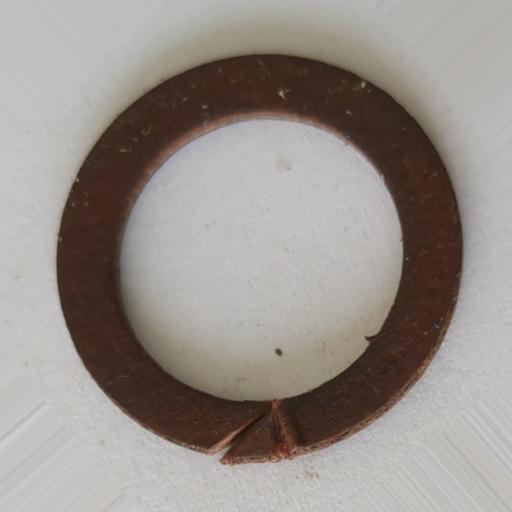defect: (205, 402, 291, 466), (365, 327, 393, 351)
